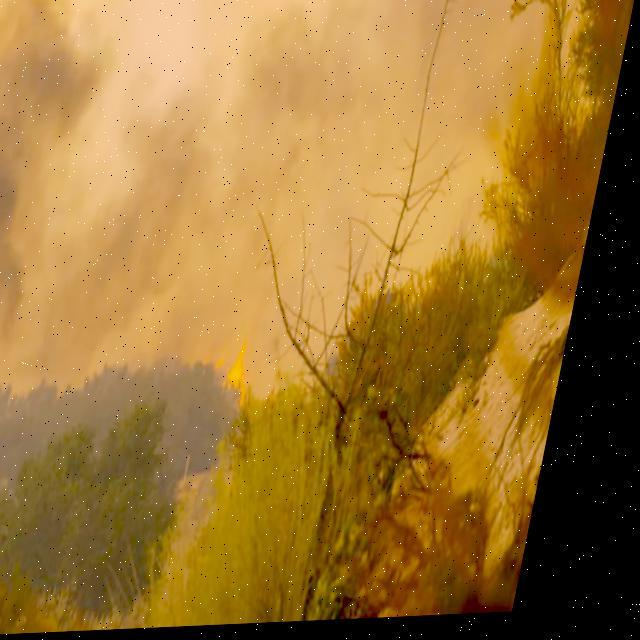Fire: (211, 351, 273, 414)
